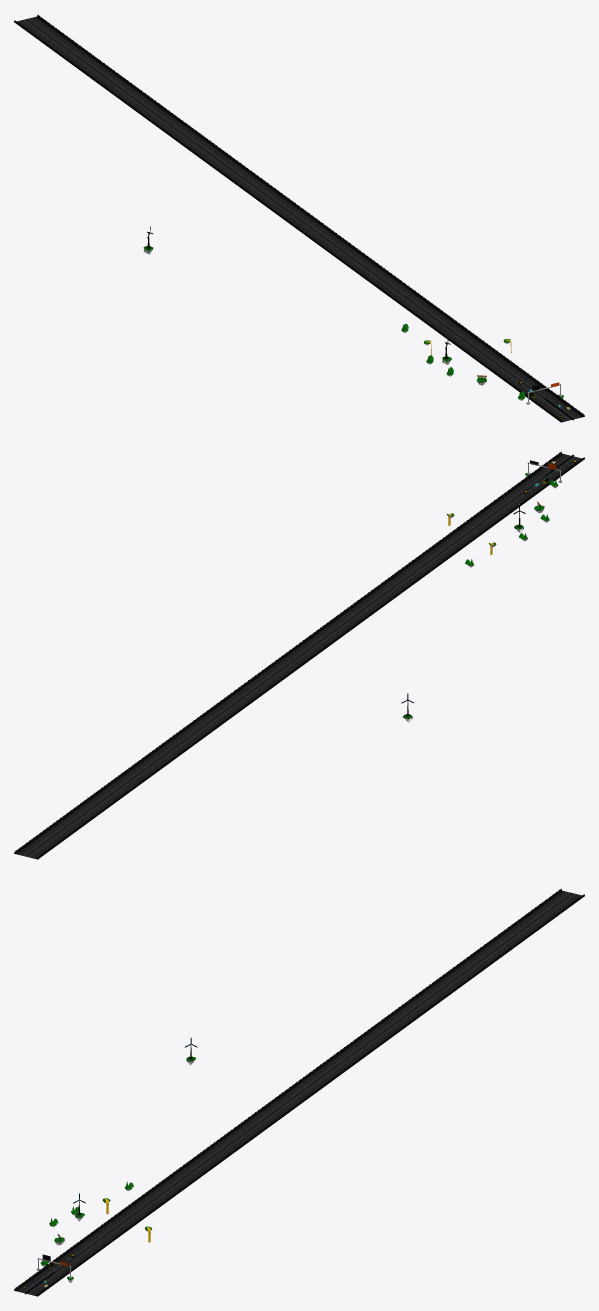
Rendered from ehr.obj.
3 renders of one model, top to bottom at view 1: azimuth 30°, elevation 25°; view 2: azimuth 150°, elevation 25°; view 3: azimuth 330°, elevation 25°, orthographic.
Visible parts, largest first — view 1: Road_Plane.003; view 2: Road_Plane.003; view 3: Road_Plane.003.
Part boxes in pixels (x1,y1,x2,y2): Road_Plane.003: (14, 14, 584, 422); Road_Plane.003: (14, 451, 584, 859); Road_Plane.003: (14, 888, 584, 1296).
Bounding box in the file's own units: 133 × 34.46 × 761.
